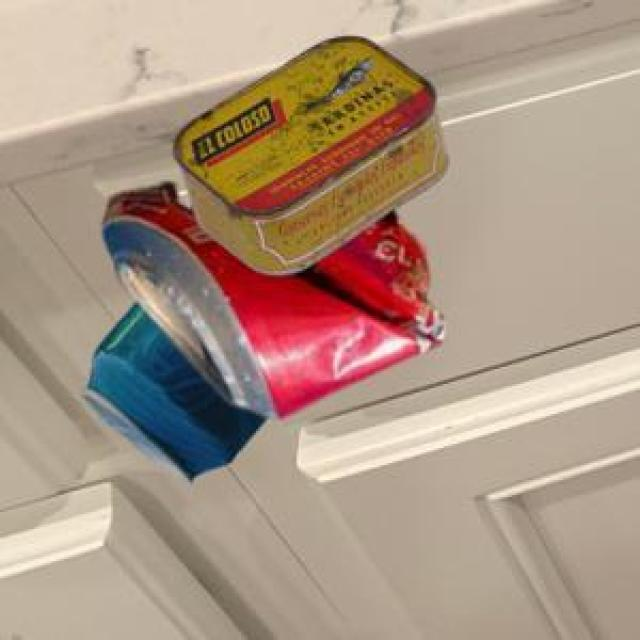metal: (85, 36, 450, 482), (173, 36, 450, 277)
